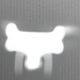plane: (2, 20, 79, 77)
